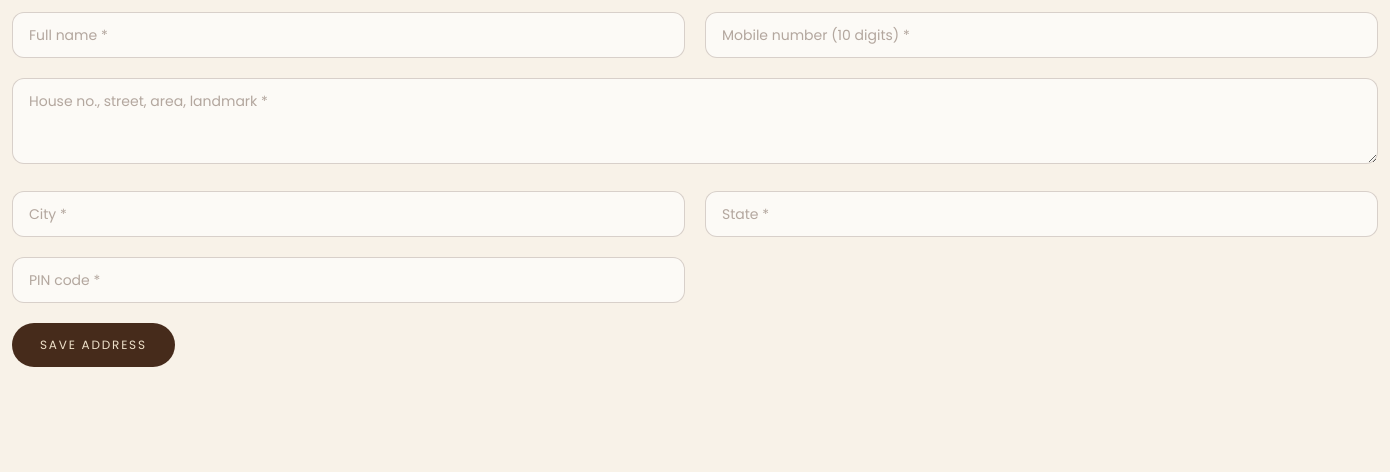
it: AddressForm › an empty form shows every problem at once and saves nothing
This screenshot has width=1390, height=472.
Click the button "Save Address".
click(93, 345)  # box [12, 323, 175, 367]
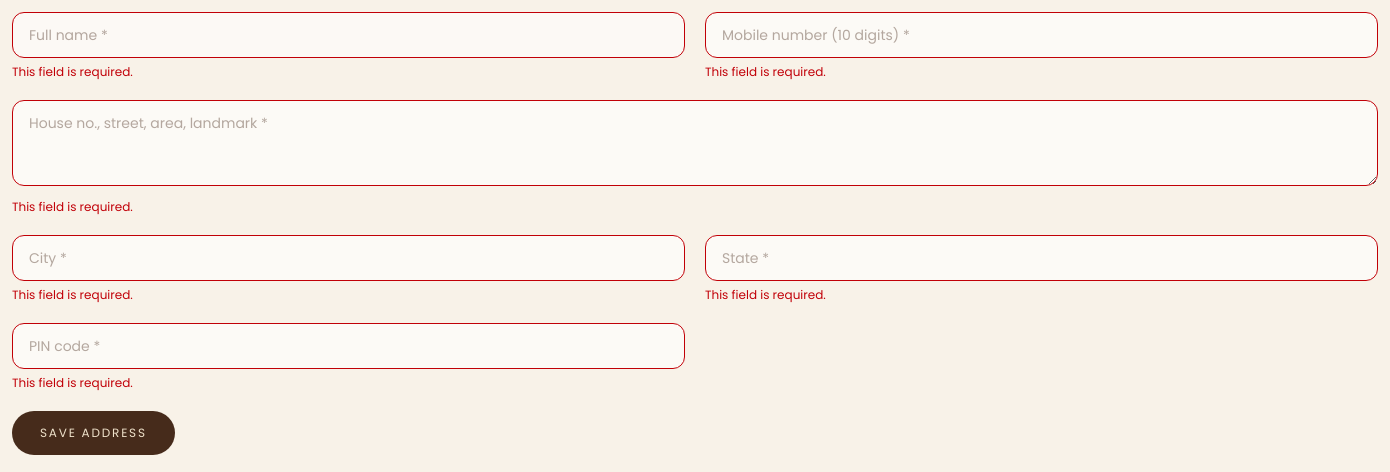
Result: the text "This field is required." is shown 6 times at [12, 63, 133, 80]; [705, 63, 826, 80]; [12, 198, 133, 215]; [12, 286, 133, 303]; [705, 286, 826, 303]; [12, 374, 133, 391]
